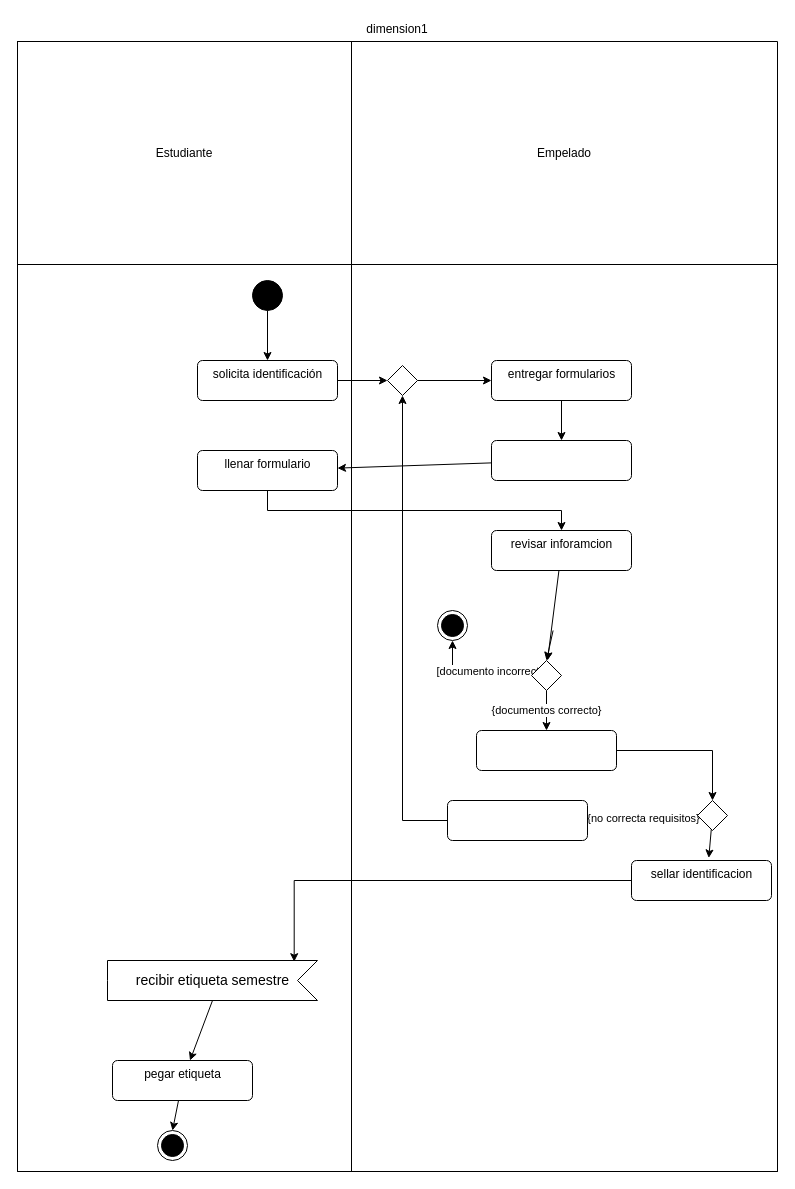
Some shapes in this 795 by 1189 pixel diagram are drawn without their labels. The shapes that lost their labels are listed below. From the top down, each one's box as (x1, y1, x2, y2) in pixels, then its label:
(490, 440, 632, 480): crea Identificacion
(476, 730, 616, 770): revisar identificacion
(446, 800, 588, 840): destruye tarjeta
